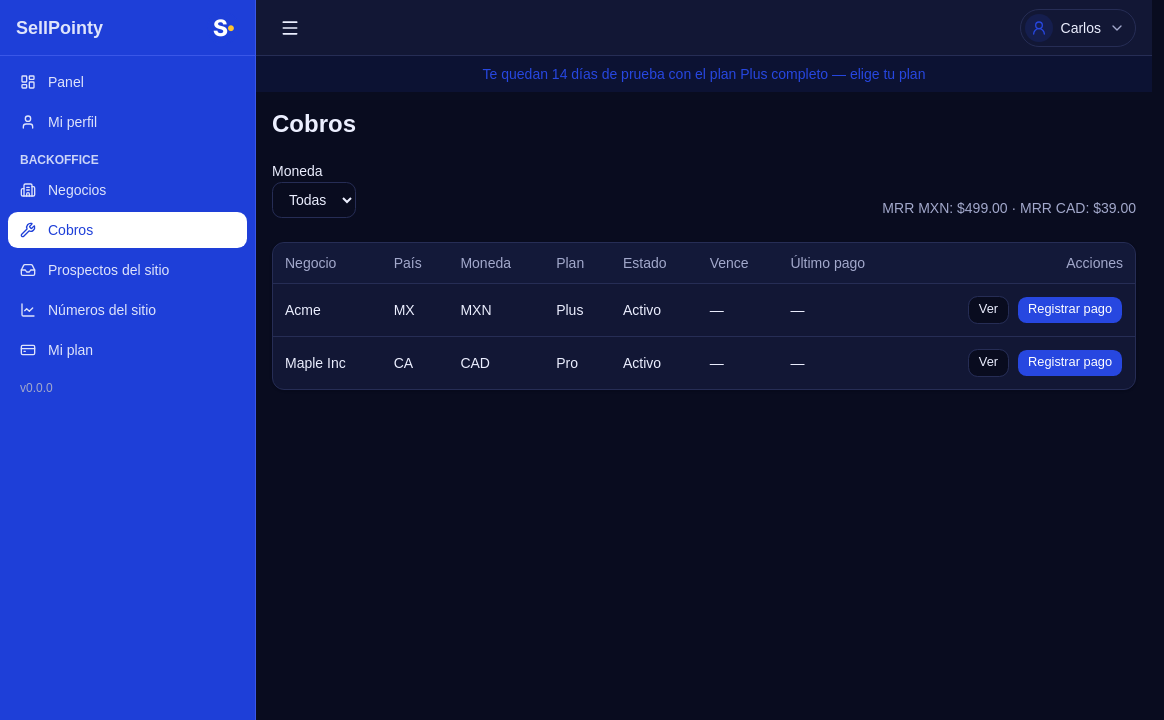
Test case: Backoffice /admin/billing (F7-WEB-10) › la tabla muestra país y moneda, y el filtro deja solo esa moneda
expect the text "Maple Inc" shows "CA": met, box [394,354,413,370]
expect the text "Maple Inc" shows "CAD": met, box [460,354,490,370]
Select "CAD" in the dropdown labelled "Moneda" at {"x": 314, "y": 200}, box [272,182,356,218]
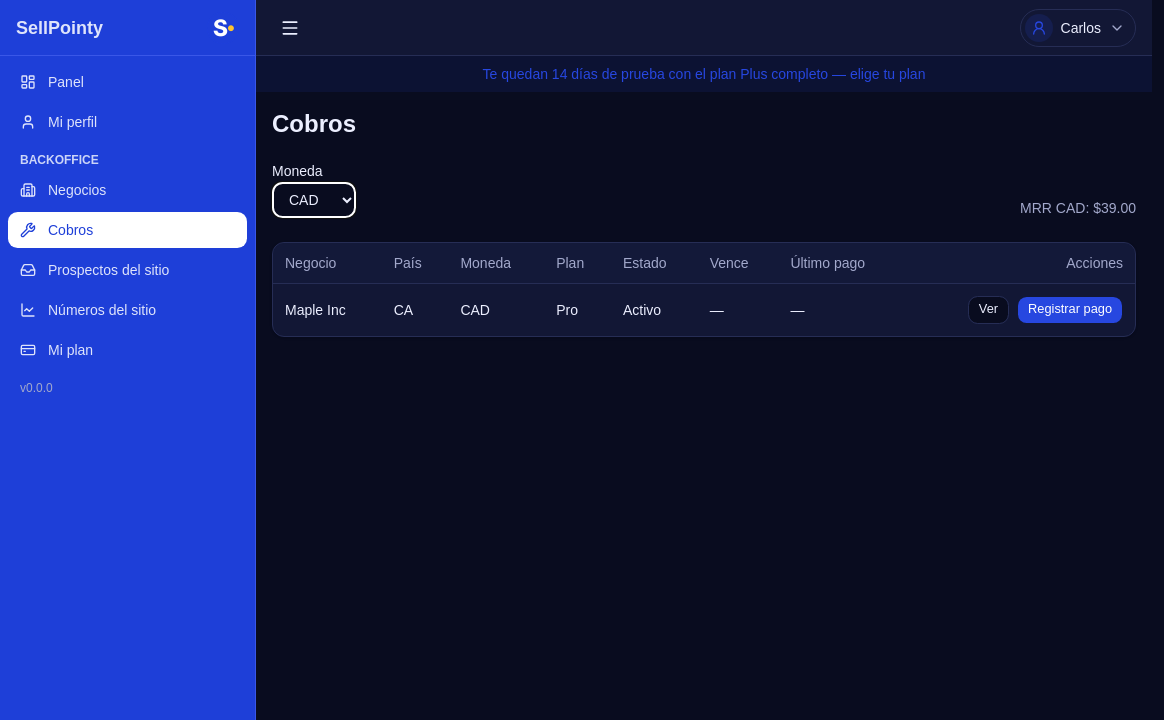
expect the button "Maple Inc" is shown: met, box [285,300,346,320]
expect the button "Acme" is gone: met
expect the text "MRR MXN" is gone: met
